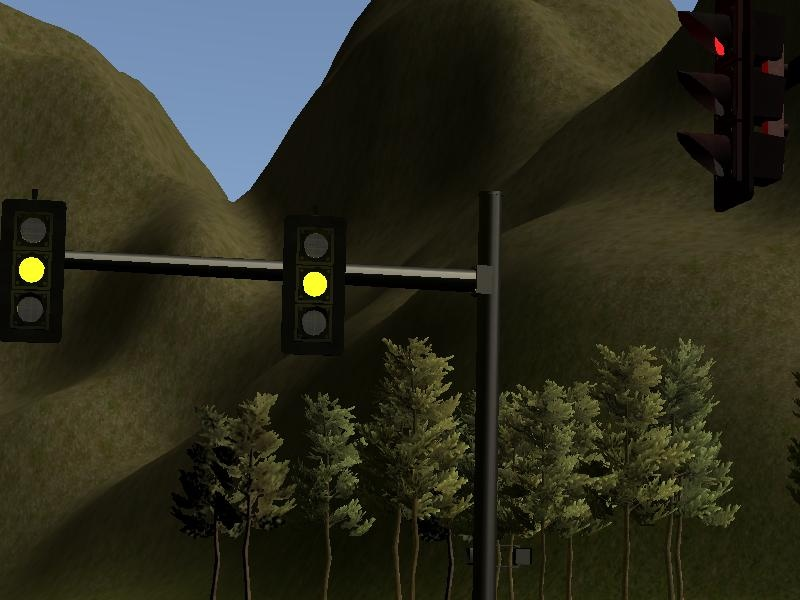YELLOW: (282, 215, 346, 355), (1, 199, 63, 339)
